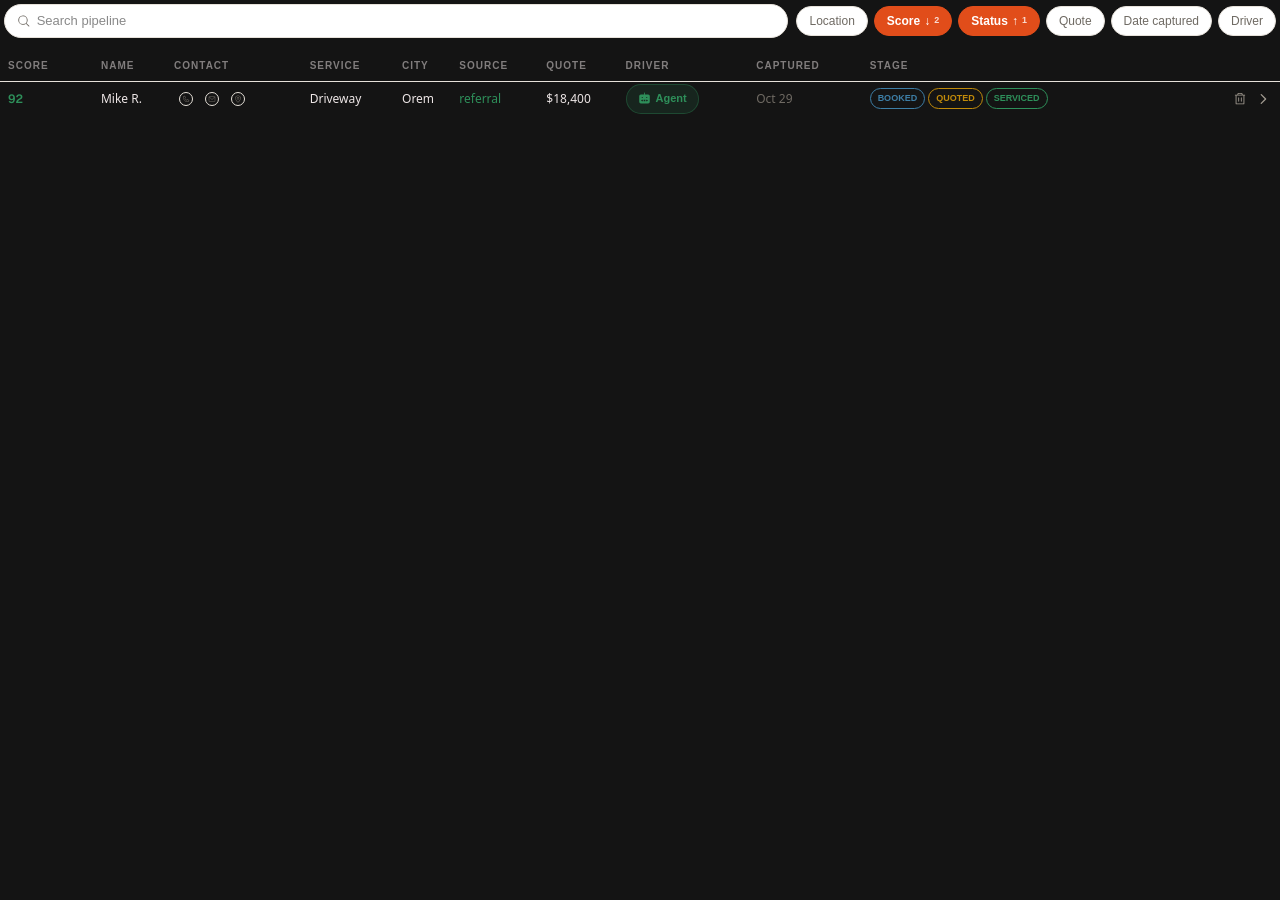
Test: LeadsTable delete › keeps the row and surfaces an error when the delete fails
The image size is (1280, 900).
Click the button with test id "delete-lead-l1".
click(1240, 98)  # box [1228,86,1252,110]
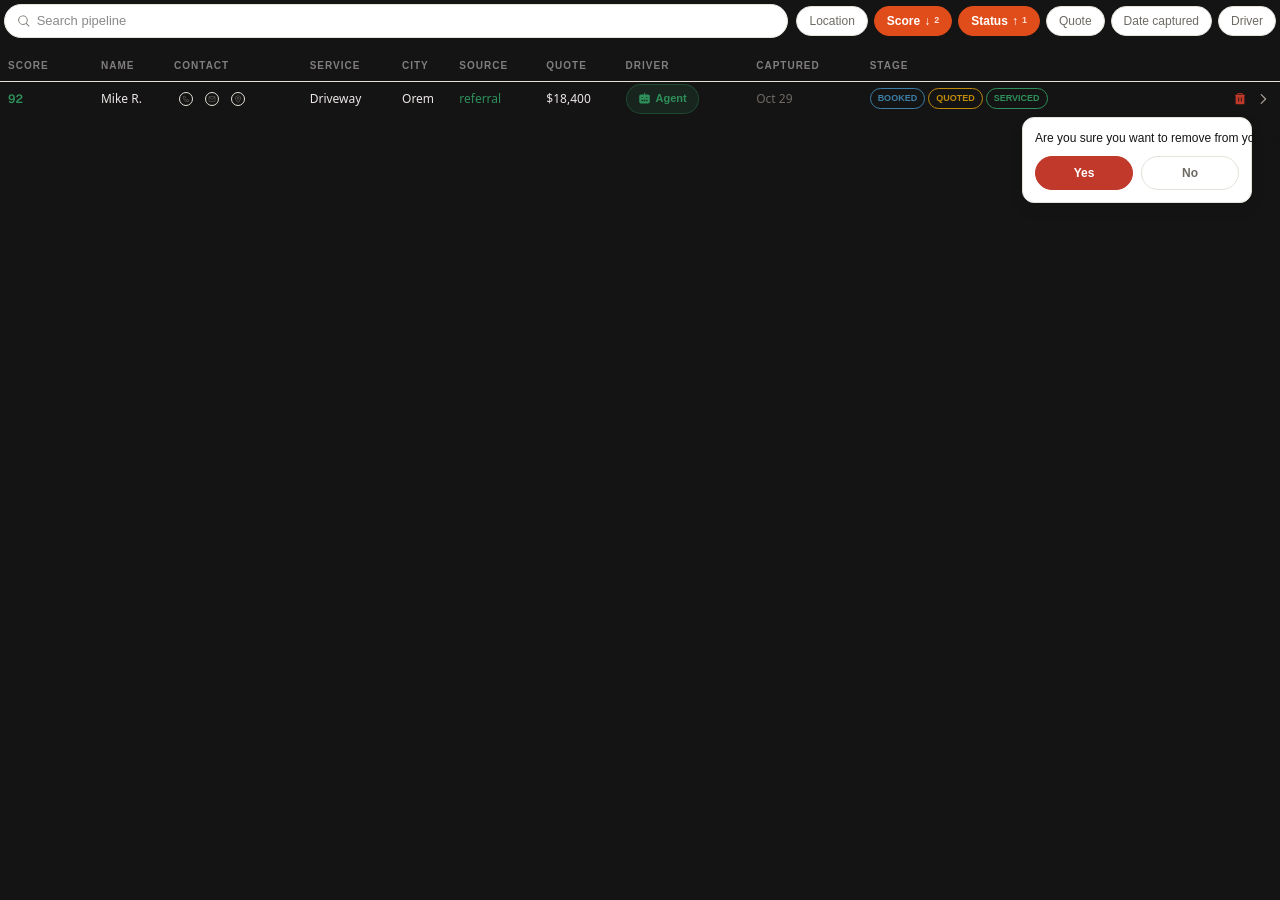
Click the button with test id "delete-lead-l1-yes".
click(1084, 173)  # box [1035,156,1133,190]
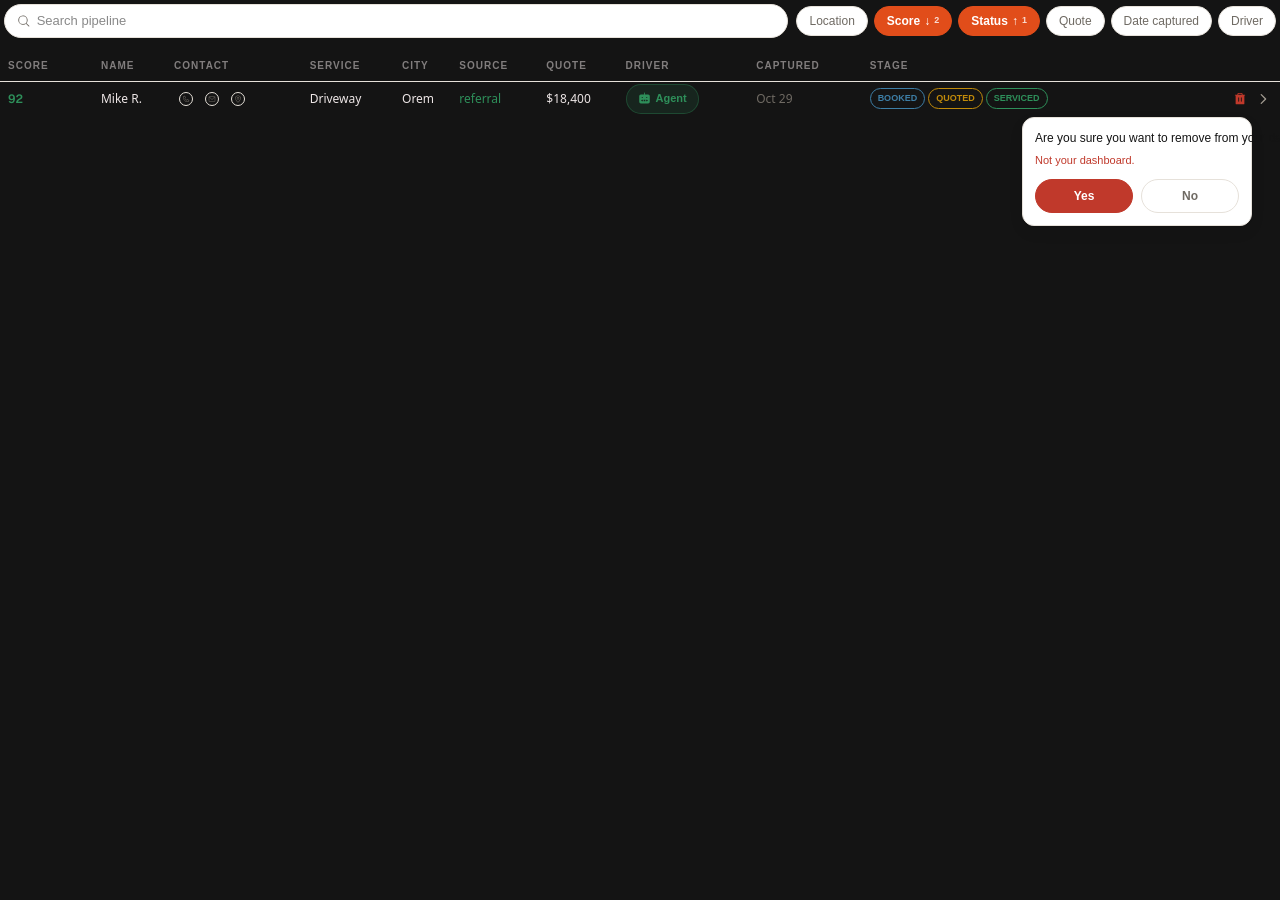
Expected: the row with test id "lead-row-l1" is shown, [0,81,1279,116]
Expected: the message reads "Not your dashboard.", [1035,154,1135,166]
